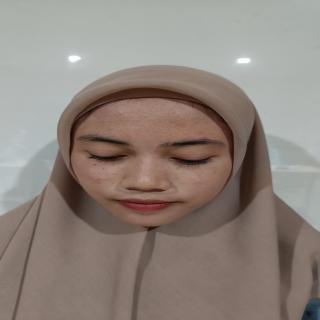Sedih: (65, 90, 240, 233)
